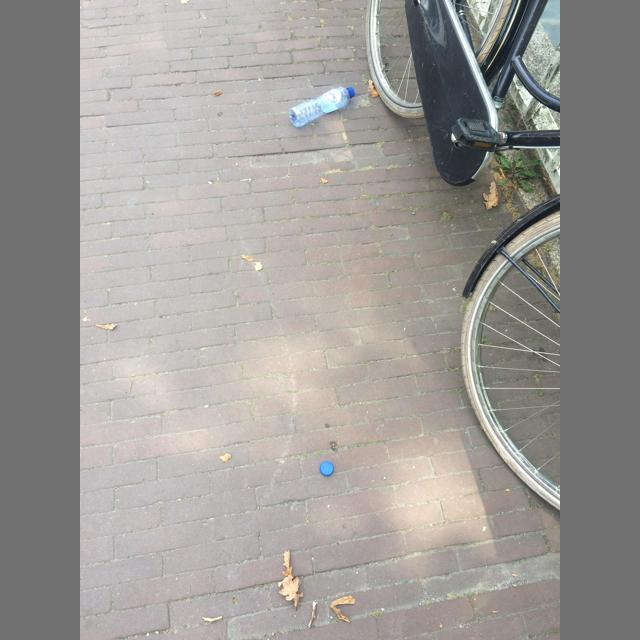litter: (289, 87, 354, 127), (320, 461, 333, 475), (348, 86, 355, 97)
